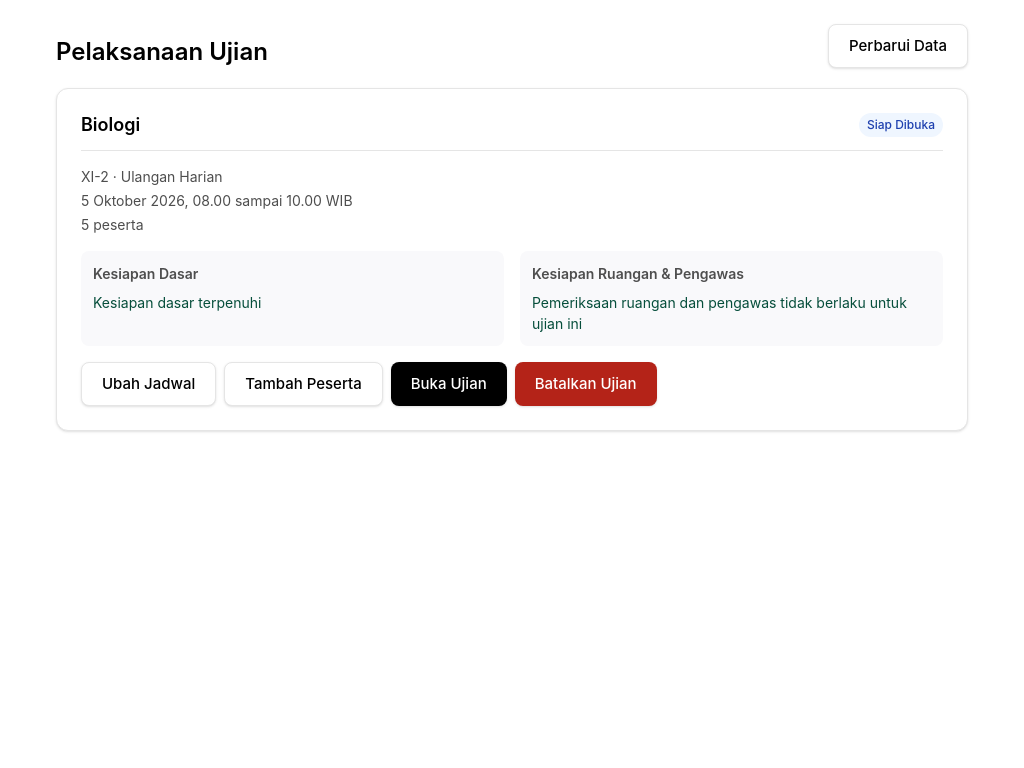
Test: adding participants on the teacher screen › tells the teacher of a ready exam that it must be marked ready again, before and after adding
Click the button "Tambah Peserta".
click(303, 384)  # box [224,362,383,406]
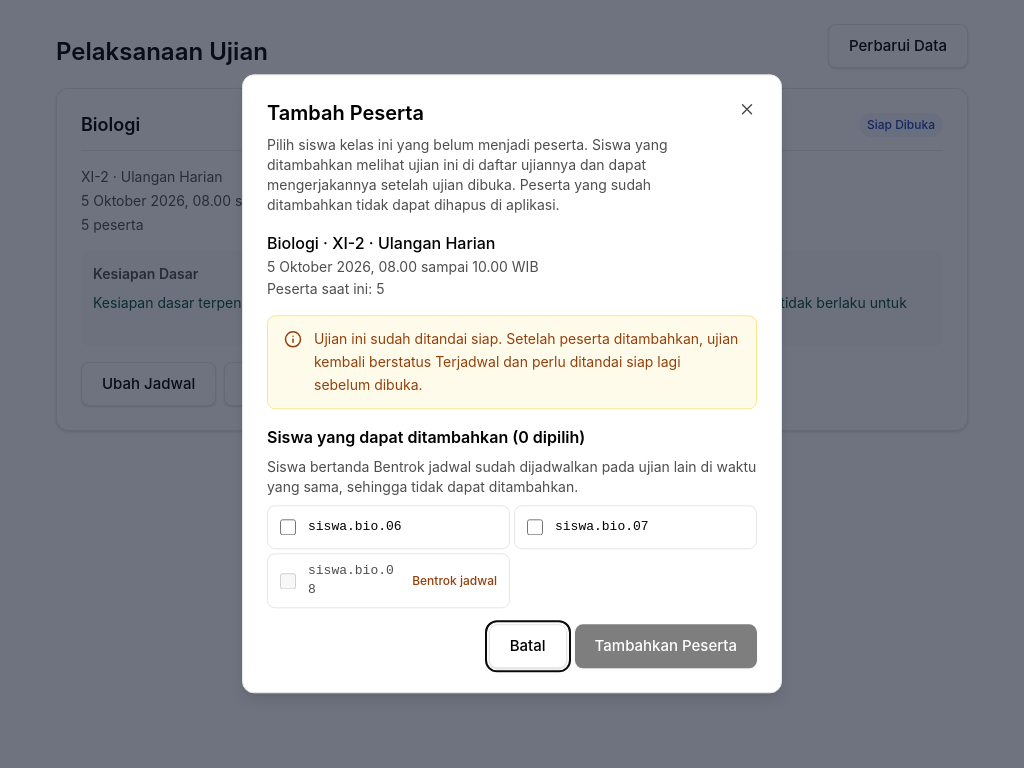
Expected: the text "Ujian ini sudah ditandai siap. Setelah peserta ditambahkan, ujian kembali berstatus Terjadwal" is shown, [314,330,738,393]
Click the checkbox labelled "siswa.bio.07".
click(535, 528)  # box [527,520,543,536]
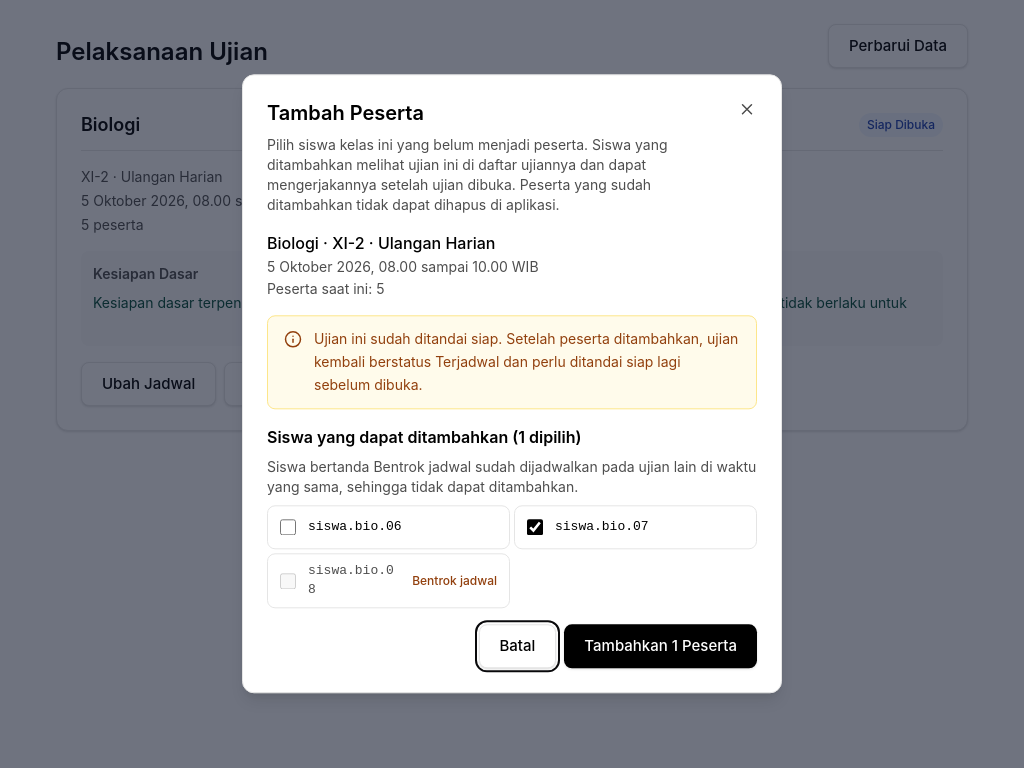
Click the button "Tambahkan 1 Peserta".
click(661, 647)  # box [564,625,757,669]
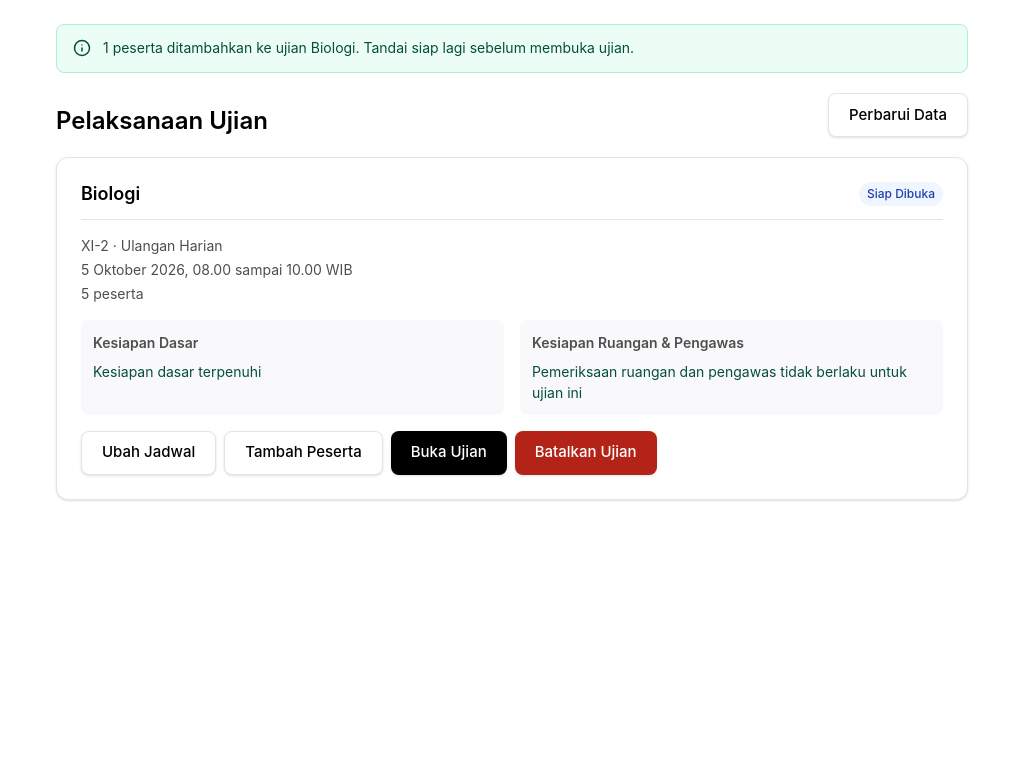
Expected: the text "1 peserta ditambahkan ke ujian Biologi. Tandai siap lagi sebelum membuka ujian." is shown, [103,39,634,56]
